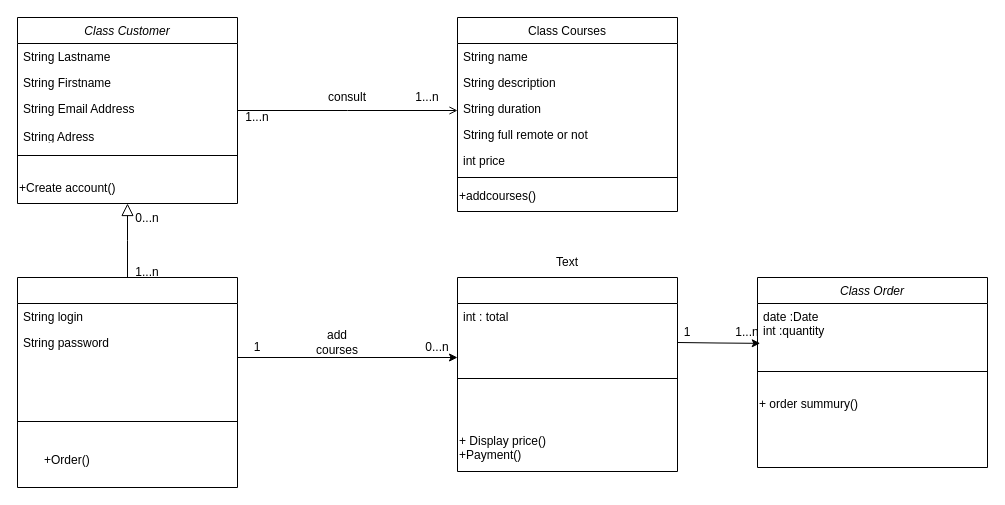
Image size: 1005x505. Some labels were removed from this diagram. Each missing label, with the box of its shape:
Class Cart: (456, 276, 678, 472)
Customer account: (16, 276, 238, 488)
